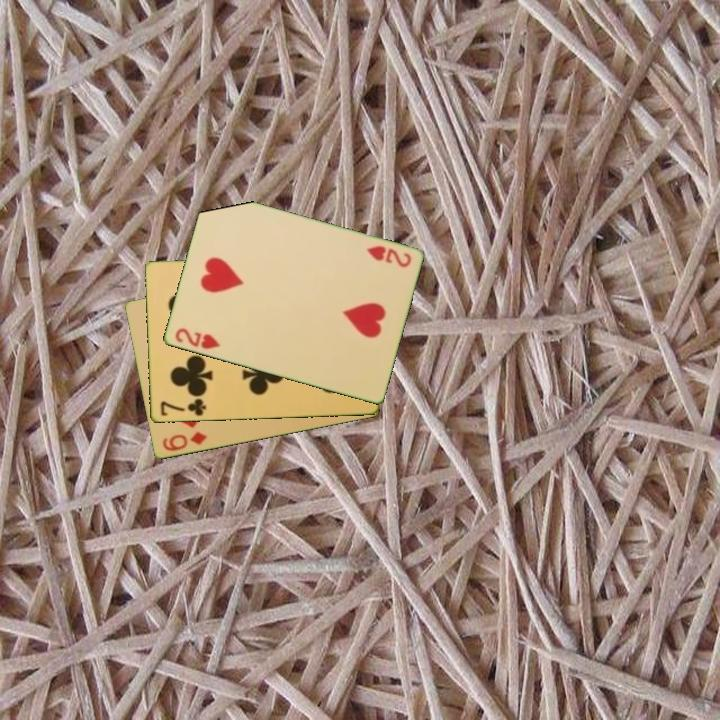2h: (363, 242, 414, 271), (171, 325, 222, 352)
6d: (159, 428, 210, 454)
7c: (157, 395, 209, 419)
